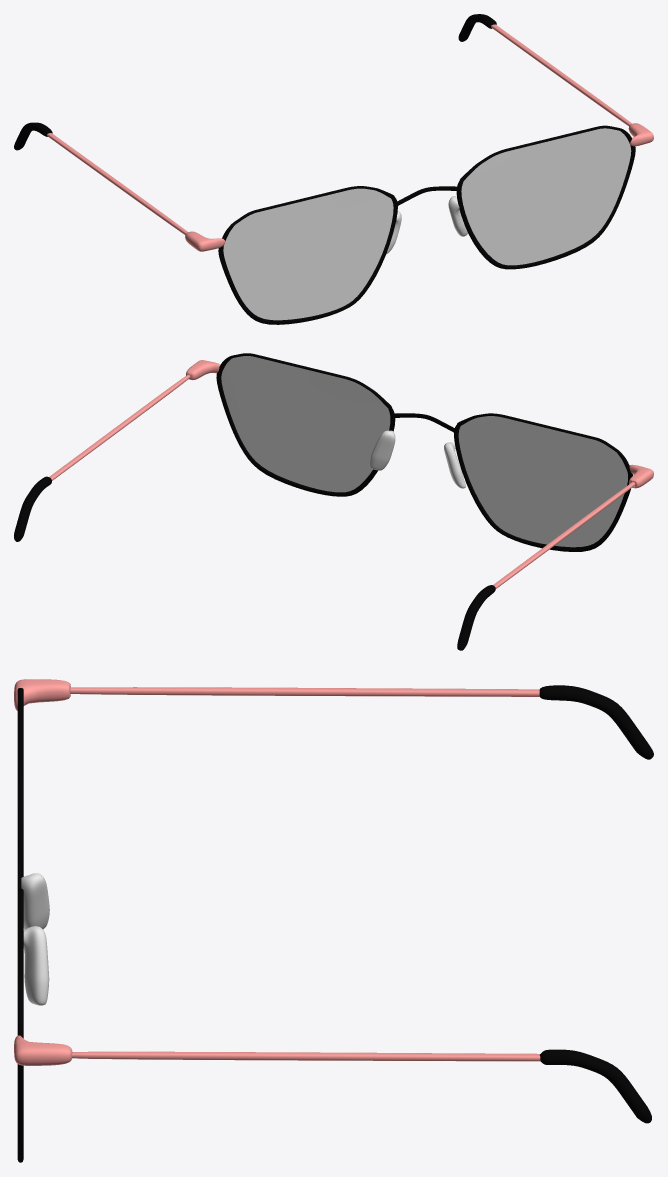
The model's file is Spectacle.fbx.
3 views of the same model, one above another, from view 1: azimuth 30°, elevation 25°; view 2: azimuth 150°, elevation 25°; view 3: azimuth 270°, elevation 25° (orthographic). The views are drawn at different scales.
Parts seen in each view (by area): view 1: Cube; view 2: Cube; view 3: Cube.
Boxes of the visible parts, x1,y1,x2,y2 form: Cube: [14, 14, 653, 324]; Cube: [14, 353, 653, 650]; Cube: [14, 679, 653, 1162].
Bounding box in the file's own units: 282 × 73.2 × 204.
